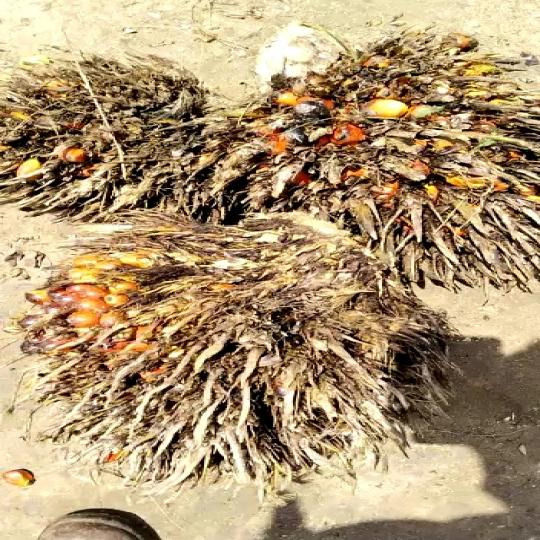terlalu masak: (23, 208, 458, 487), (185, 31, 540, 284), (0, 55, 247, 222)
